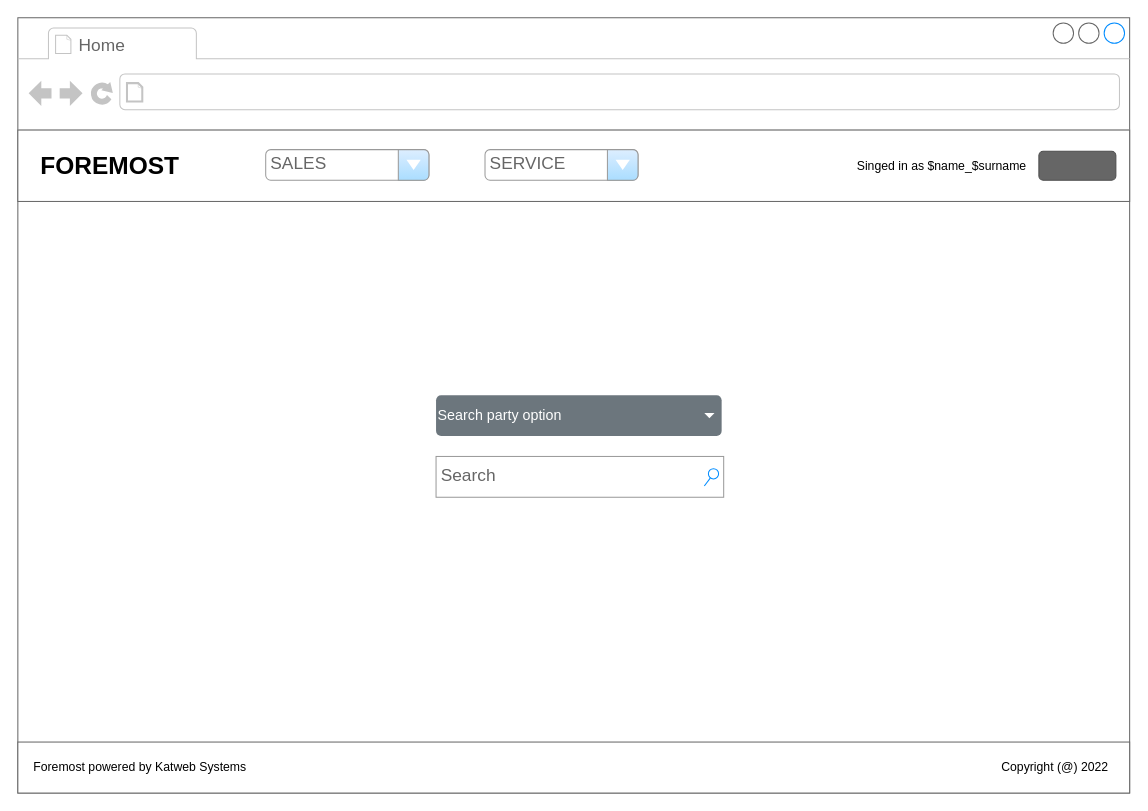
This 1148x811 diagram has some shape labels left out. The shapes that lost their labels are listed below. From the top down, each one's box as (x1, y1, x2, y2) in pixels, then its label:
(149, 78, 405, 106): https://www.foremost.io
(1038, 150, 1116, 180): Logout
